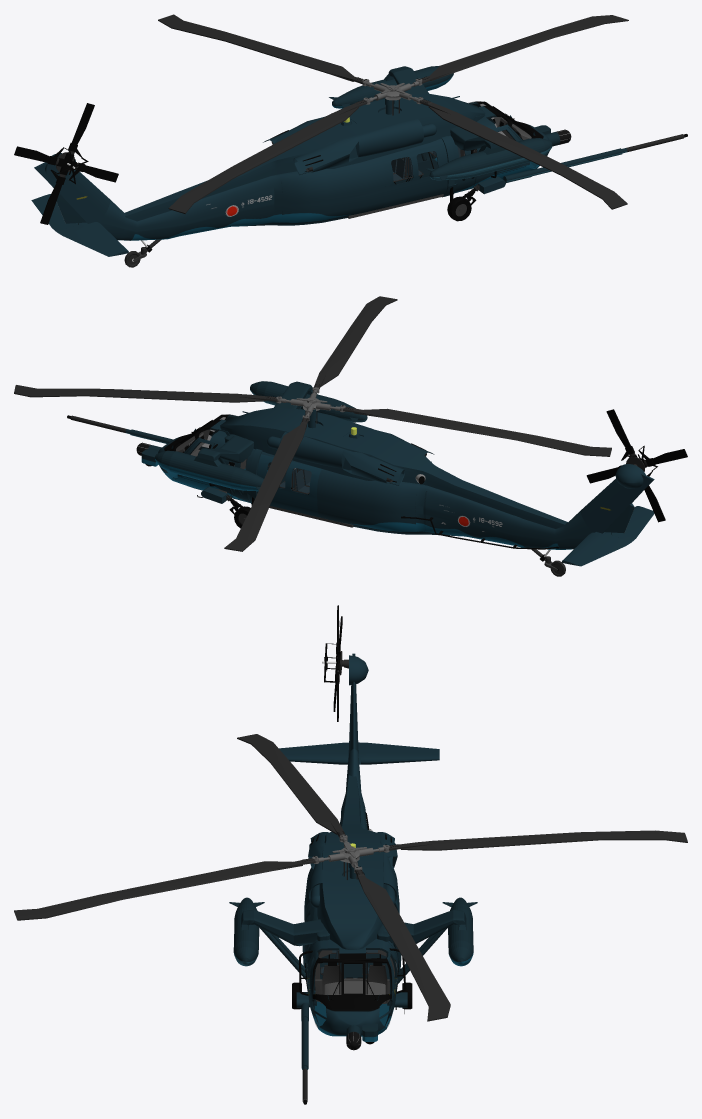
3 renders of one model, top to bottom at view 1: azimuth 30°, elevation 25°; view 2: azimuth 150°, elevation 25°; view 3: azimuth 270°, elevation 25°, orthographic. The views are drawn at different scales.
Visible parts, largest first — view 1: Sphere.001, Cube.002, Circle.002; view 2: Sphere.001, Cube.002, Circle.002; view 3: Sphere.001, Cube.002, Circle.002.
Boxes of the visible parts, x1,y1,x2,y2 form: Sphere.001: [31, 65, 687, 267]; Cube.002: [158, 14, 628, 213]; Circle.002: [14, 103, 118, 224]; Sphere.001: [67, 381, 654, 576]; Cube.002: [14, 296, 611, 551]; Circle.002: [586, 409, 687, 522]; Sphere.001: [229, 653, 477, 1104]; Cube.002: [14, 734, 687, 1021]; Circle.002: [322, 605, 348, 721].
Bounding box in the file's own units: 18.11 × 4.93 × 14.72.
Materials: 17 (2 with a texture image).
